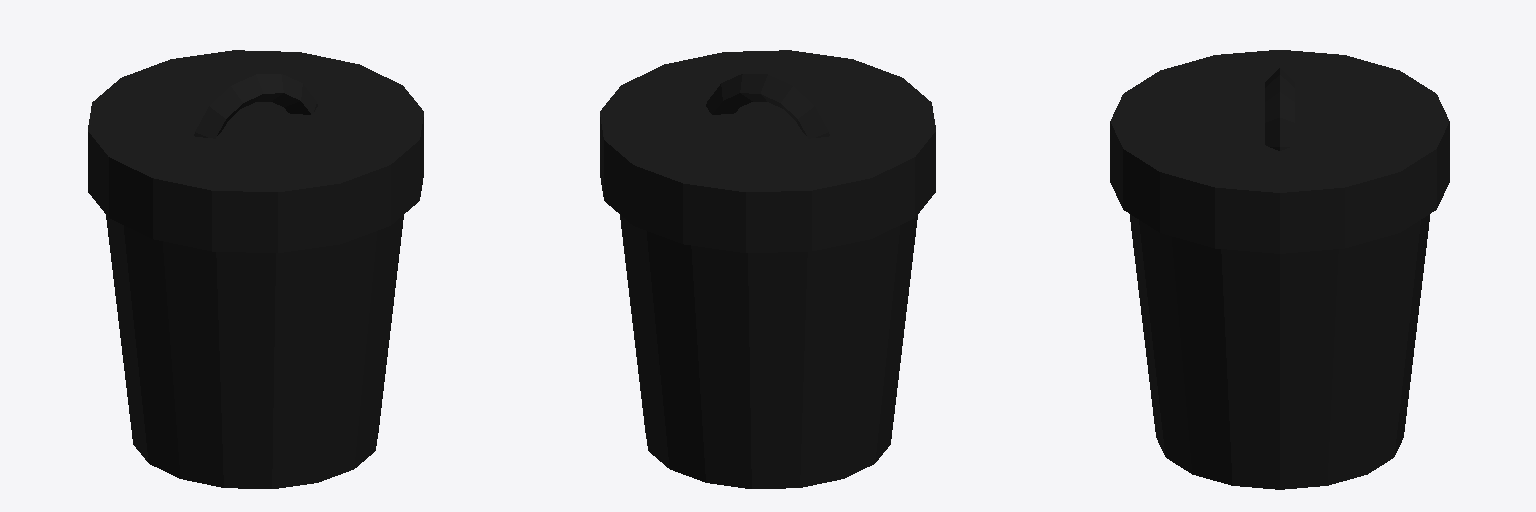
Rendered from garbage.obj.
3 views of the same model, side by side, from view 1: azimuth 30°, elevation 25°; view 2: azimuth 150°, elevation 25°; view 3: azimuth 270°, elevation 25° (orthographic).
Visible parts, largest first — view 1: Circle; view 2: Circle; view 3: Circle.
Boxes of the visible parts, <box> form: Circle: <box>88,50,423,488</box>; Circle: <box>600,50,935,488</box>; Circle: <box>1110,50,1449,489</box>.
Bounding box in the file's own units: 1.65 × 1.95 × 1.65.